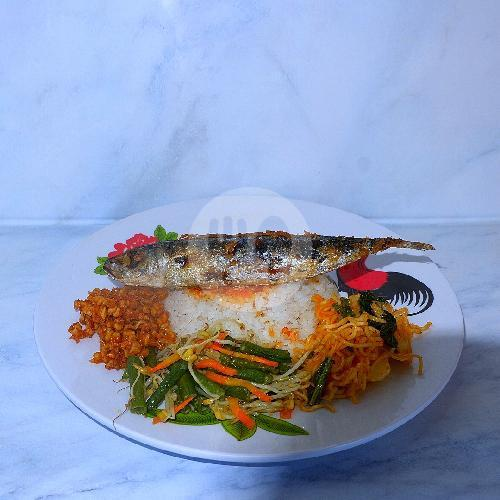buah_sayur_vitA: (156, 353, 273, 406)
daging: (151, 240, 327, 274)
kacang_legume: (85, 294, 164, 348)
makanan_berpati: (326, 318, 405, 381), (204, 294, 322, 331)
